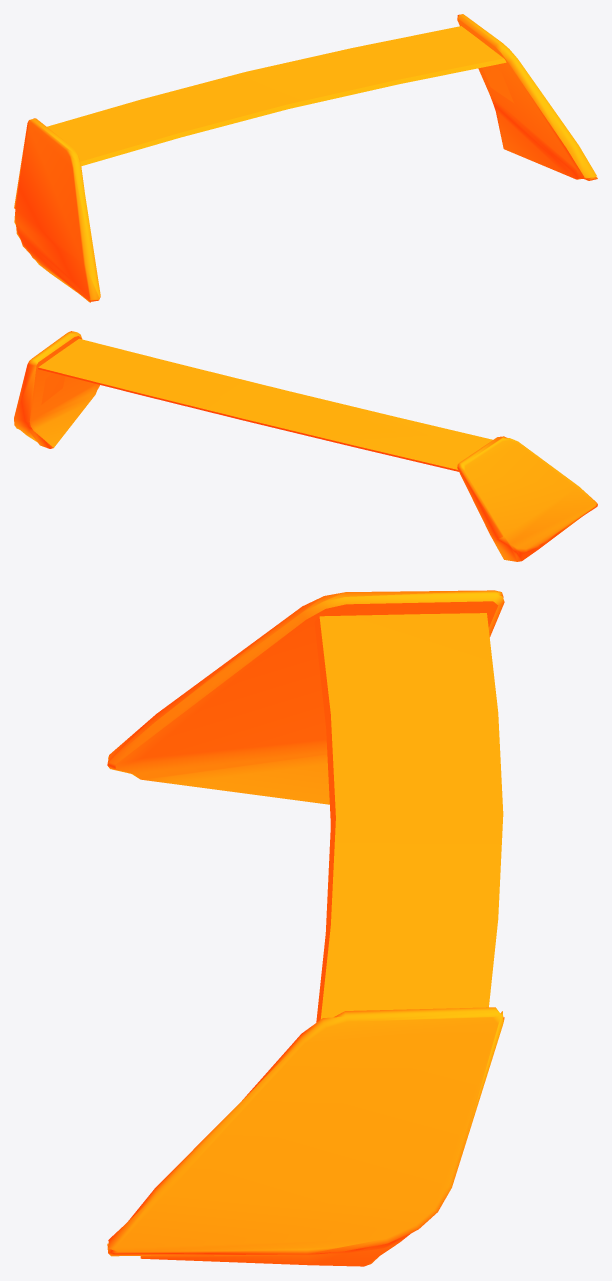
The model's file is evo9_hood.FBX.
The picture shows the model from 3 angles, top to bottom: view 1: azimuth 30°, elevation 25°; view 2: azimuth 150°, elevation 25°; view 3: azimuth 270°, elevation 25°; orthographic projection. The views are drawn at different scales.
Visible parts, largest first — view 1: Spoiler; view 2: Spoiler; view 3: Spoiler.
Part boxes in pixels (x1=…): Spoiler: x1=14, y1=14, x2=597, y2=302; Spoiler: x1=14, y1=331, x2=597, y2=561; Spoiler: x1=107, y1=590, x2=504, y2=1266.
Bounding box in the file's own units: 2831 × 614 × 960.
